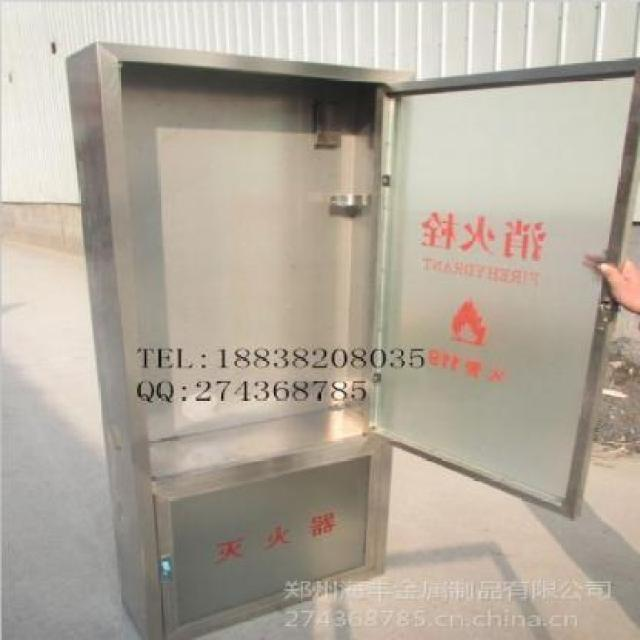firehydrant: (57, 35, 639, 640)
